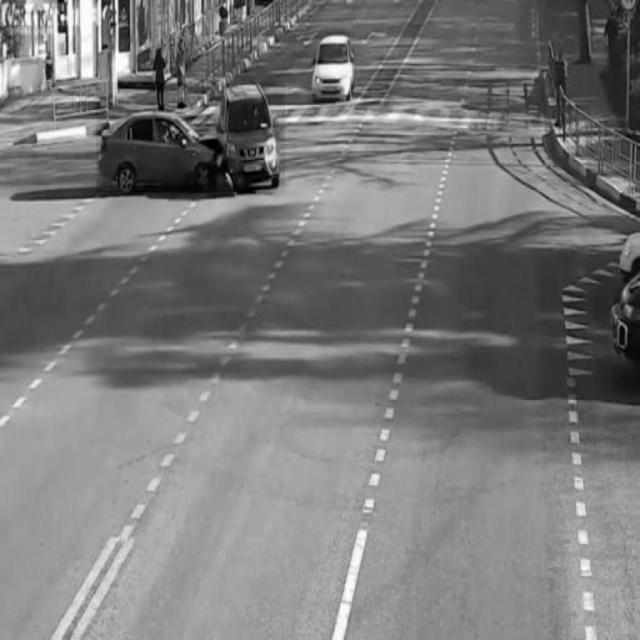accident: (96, 82, 284, 192)
vehicle: (314, 32, 355, 96)
